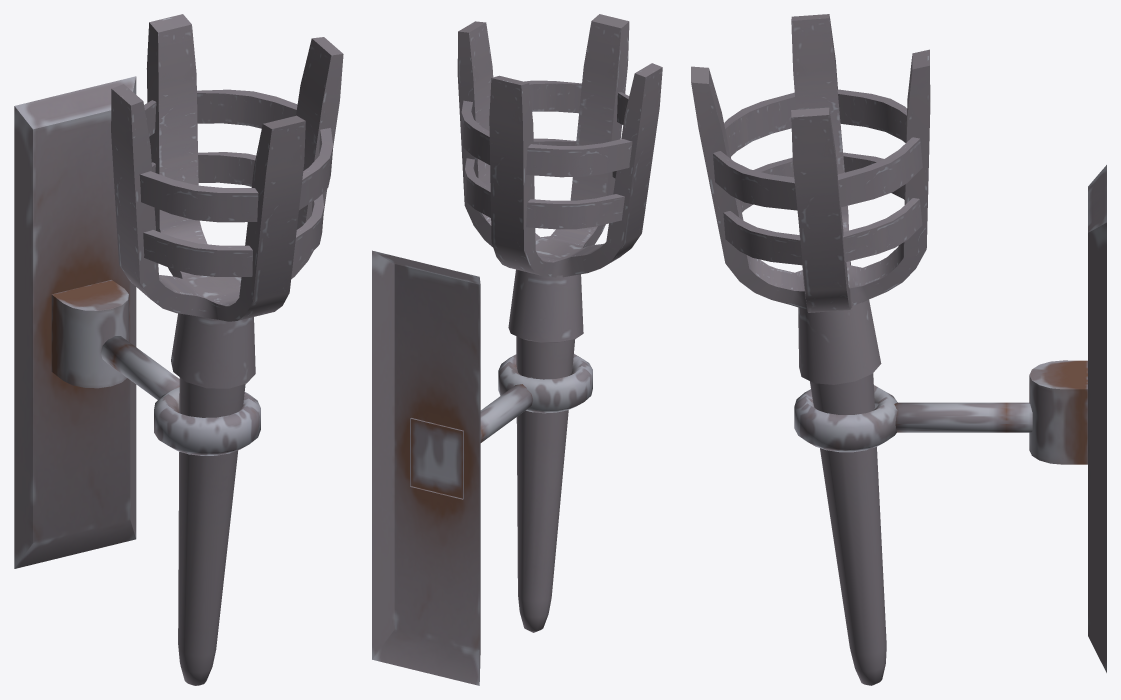
File: Torch_Metal.gltf
3 renders of one model, left to right at view 1: azimuth 30°, elevation 25°; view 2: azimuth 150°, elevation 25°; view 3: azimuth 270°, elevation 25°, orthographic. The views are drawn at different scales.
Parts seen in each view (by area): view 1: Torch_Metal; view 2: Torch_Metal; view 3: Torch_Metal.
Part boxes in pixels (box(x1,y1,x2,y2)): Torch_Metal: box(14, 14, 343, 685); Torch_Metal: box(372, 14, 662, 685); Torch_Metal: box(691, 14, 1106, 685).
Size of the model in its own units: 0.2232 by 0.6482 by 0.3884.
1 material, 1 textured.
